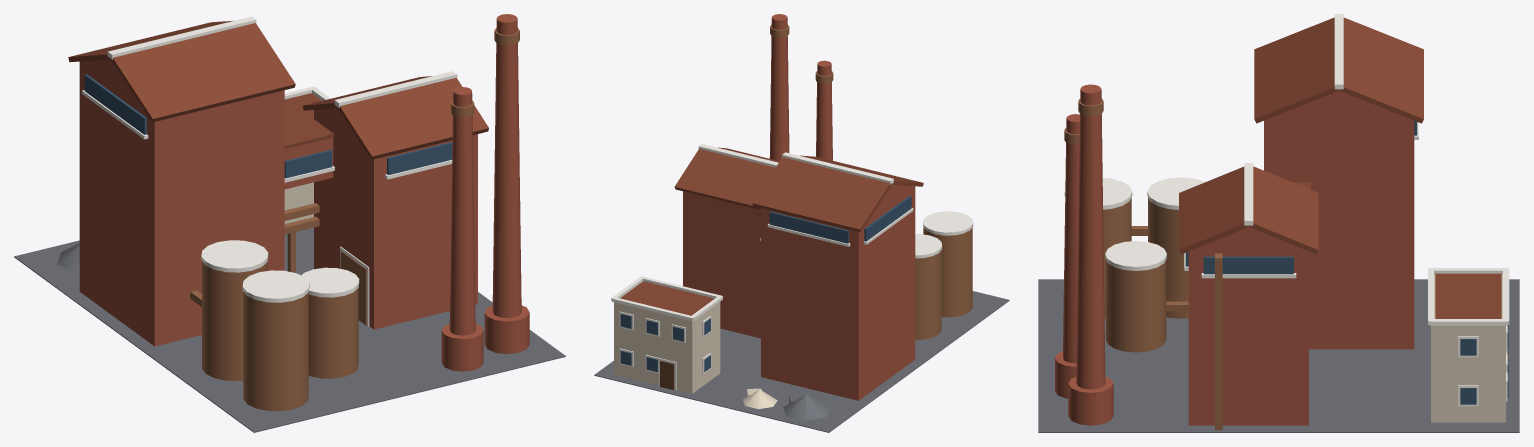
The picture shows the model from 3 angles, left to right: view 1: azimuth 30°, elevation 25°; view 2: azimuth 150°, elevation 25°; view 3: azimuth 270°, elevation 25°; orthographic projection. The views are drawn at different scales.
Visible parts, largest first — view 1: process_a, roof (×5), process_b, yard, storage_tank (×3), smoke_stack (×2), tank_top (×3), stack_base (×2), window_band (×3), ridge (×2), bridge_roof, bridge (+3 smaller); view 2: process_a, roof (×4), yard, process_b, office, storage_tank (×2), smoke_stack (×2), window_band (×2), tank_top (×2), heap (×2), ridge (×2), parapet (×2) (+2 smaller); view 3: process_a, yard, roof (×5), process_b, smoke_stack (×2), storage_tank (×3), office, tank_top (×3), gable (×2), stack_base (×2), window_band, ridge (×2) (+2 smaller).
Boxes of the visible parts, x1,y1,x2,y2 form: process_a: [79, 61, 284, 346]; roof (×5): [68, 20, 488, 159]; process_b: [314, 110, 477, 329]; yard: [14, 227, 565, 432]; storage_tank (×3): [202, 261, 358, 411]; smoke_stack (×2): [449, 14, 521, 335]; tank_top (×3): [201, 240, 359, 302]; stack_base (×2): [441, 305, 529, 371]; window_band (×3): [84, 74, 452, 178]; ridge (×2): [107, 16, 457, 107]; bridge_roof: [284, 118, 334, 149]; bridge: [284, 137, 333, 189]; process_a: [761, 186, 915, 400]; roof (×4): [620, 149, 923, 315]; yard: [594, 291, 1009, 432]; process_b: [683, 191, 760, 338]; office: [614, 302, 720, 393]; storage_tank (×2): [915, 227, 972, 339]; smoke_stack (×2): [769, 14, 832, 161]; window_band (×2): [769, 196, 911, 243]; tank_top (×2): [915, 211, 973, 258]; heap (×2): [743, 389, 830, 420]; ridge (×2): [698, 144, 893, 184]; parapet (×2): [612, 276, 722, 320]; process_a: [1264, 117, 1414, 349]; yard: [1038, 279, 1519, 432]; roof (×5): [1179, 17, 1501, 318]; process_b: [1188, 248, 1308, 425]; smoke_stack (×2): [1063, 84, 1105, 389]; storage_tank (×3): [1103, 198, 1188, 352]; office: [1431, 274, 1505, 422]; tank_top (×3): [1064, 177, 1205, 270]; gable (×2): [1197, 90, 1405, 248]; stack_base (×2): [1055, 351, 1113, 425]; window_band: [1203, 256, 1293, 274]; ridge (×2): [1244, 14, 1343, 225].
Bounding box in the file's own units: 24 × 24.07 × 32.
